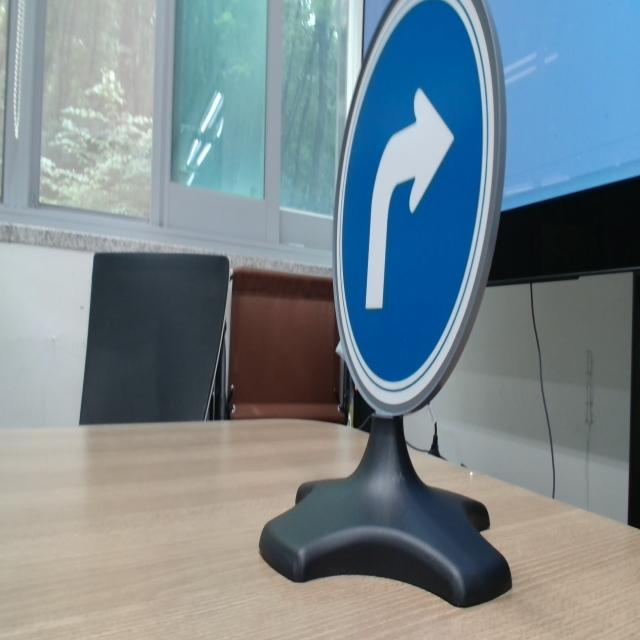right_dierection: (322, 0, 507, 423)
